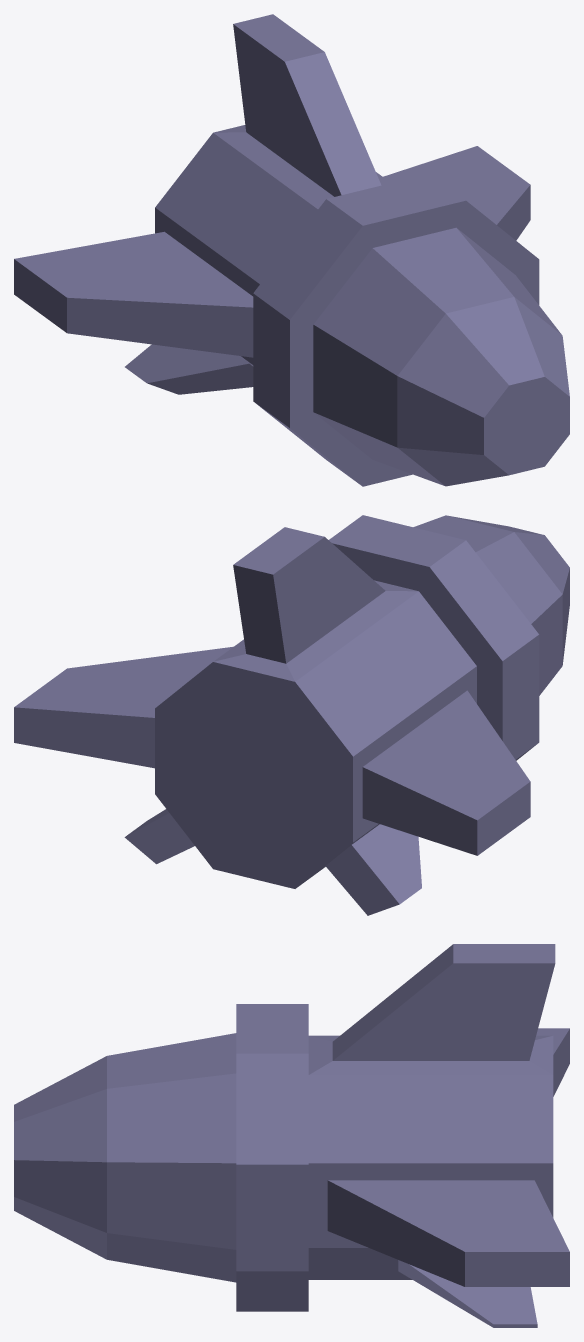
Rendered from bullet.glb.
The picture shows the model from 3 angles, top to bottom: view 1: azimuth 30°, elevation 25°; view 2: azimuth 150°, elevation 25°; view 3: azimuth 270°, elevation 25°; orthographic projection.
Parts seen in each view (by area): view 1: bullet; view 2: bullet; view 3: bullet.
Part boxes in pixels (<box>): bullet: <box>14,14,569,486</box>; bullet: <box>14,515,569,915</box>; bullet: <box>14,944,569,1327</box>.
Size of the model in its own units: 4.32 by 3 by 4.55.
